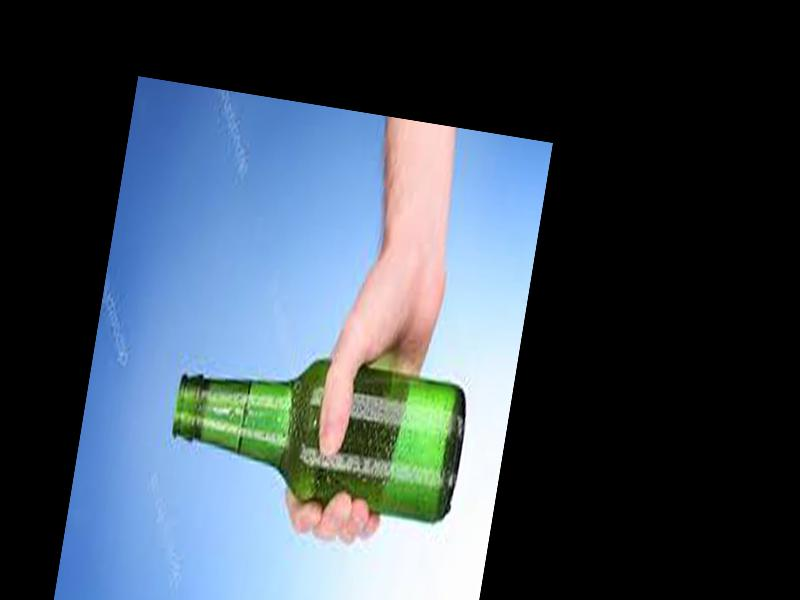Beer: (163, 340, 472, 522)
